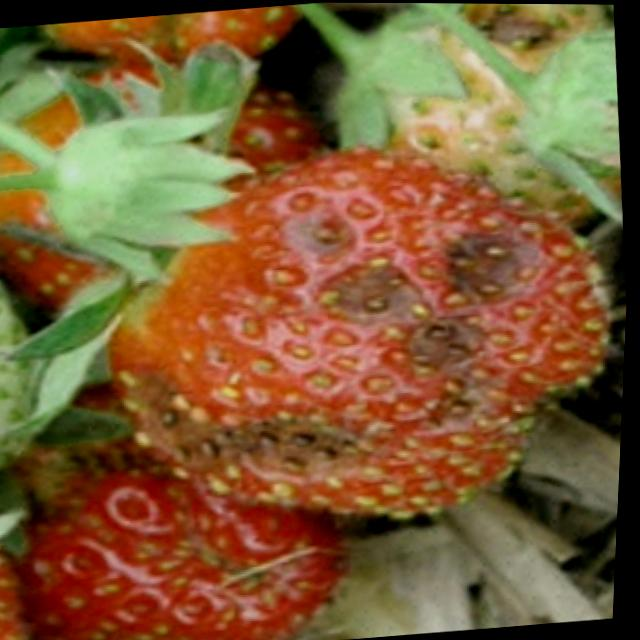Anthracnose Fruit Rot: (124, 200, 541, 495), (392, 3, 614, 217)
